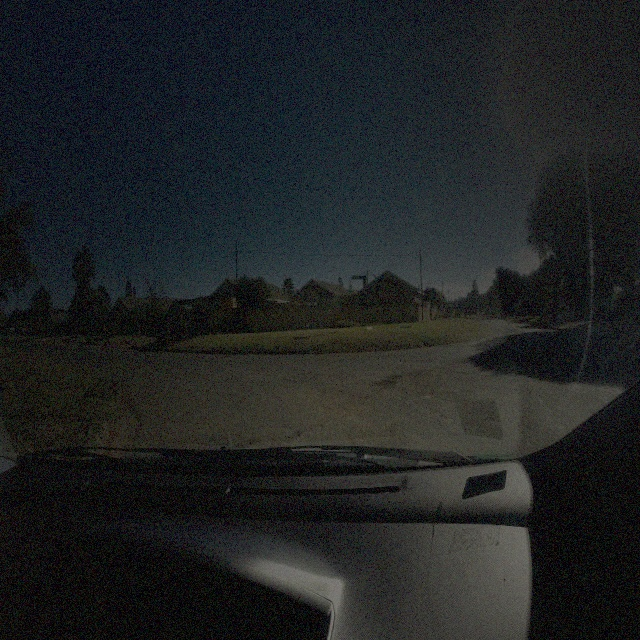pothole: (373, 370, 403, 389)
